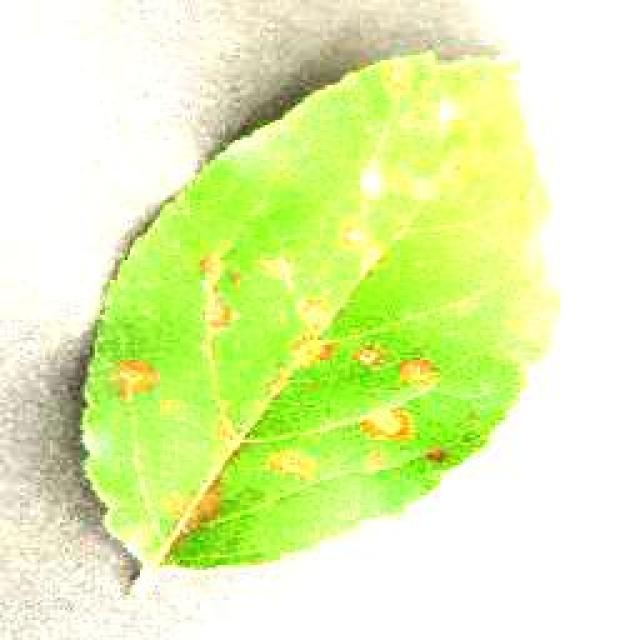apple healthy: (75, 45, 557, 577)
